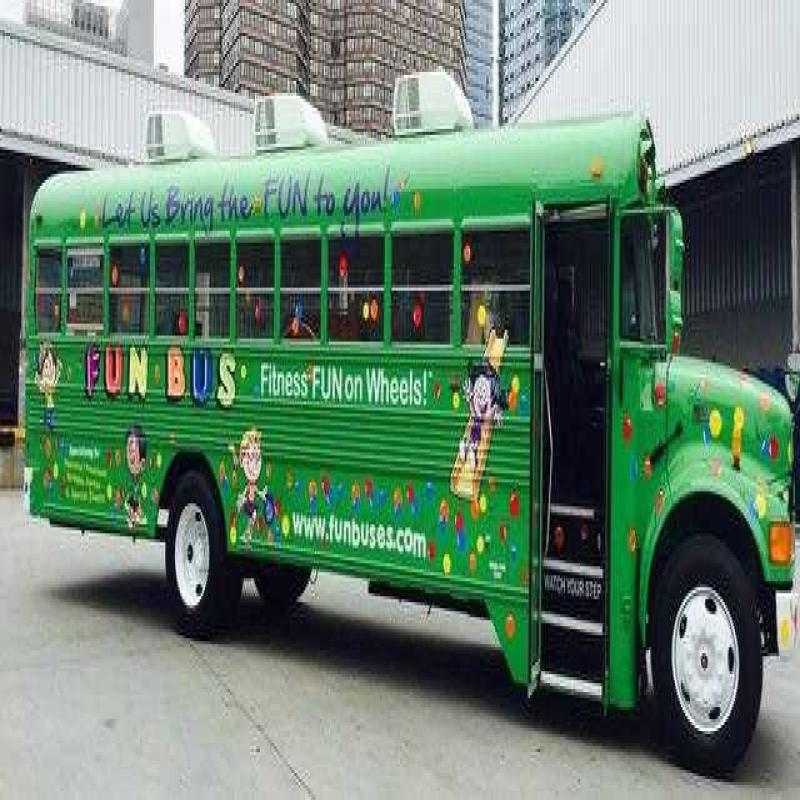bus: (29, 132, 800, 782)
